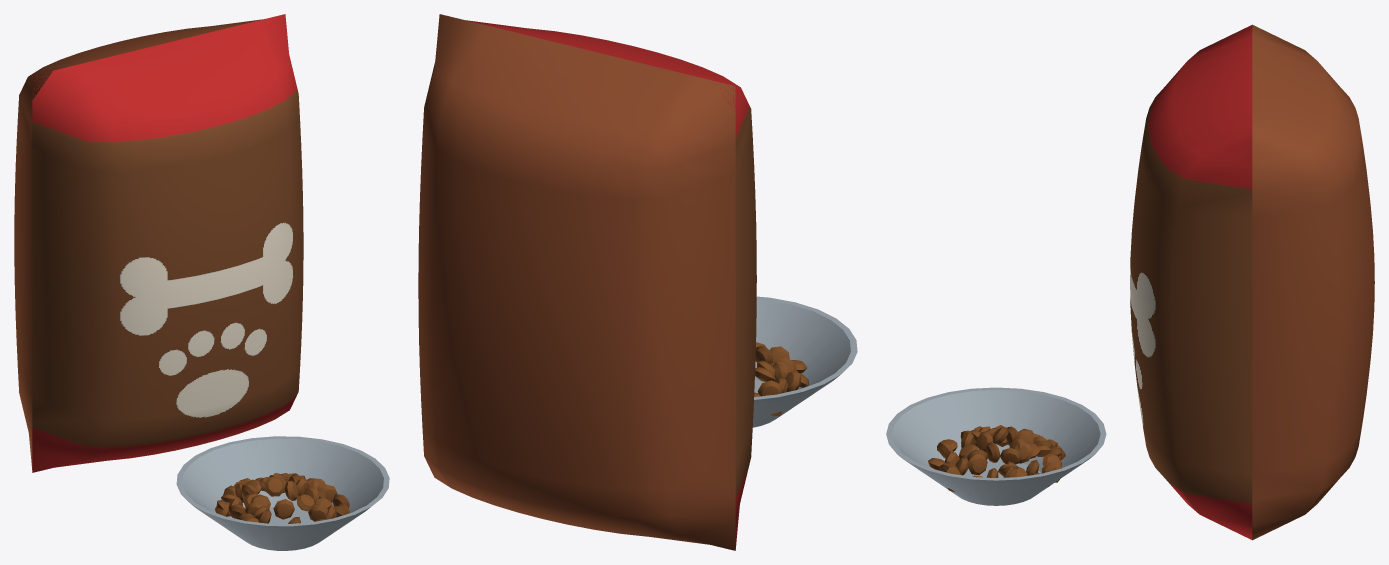
The model's file is Dog_Food.fbx.
3 renders of one model, left to right at view 1: azimuth 30°, elevation 25°; view 2: azimuth 150°, elevation 25°; view 3: azimuth 270°, elevation 25°, orthographic. The views are drawn at different scales.
Parts seen in each view (by area): view 1: Dog_Food; view 2: Dog_Food; view 3: Dog_Food.
Boxes of the visible parts, x1,y1,x2,y2 form: Dog_Food: (14, 14, 389, 550); Dog_Food: (418, 14, 857, 550); Dog_Food: (886, 24, 1374, 540).
Bounding box in the file's own units: 0.2 × 0.3 × 0.3244.
4 materials, 1 textured.
